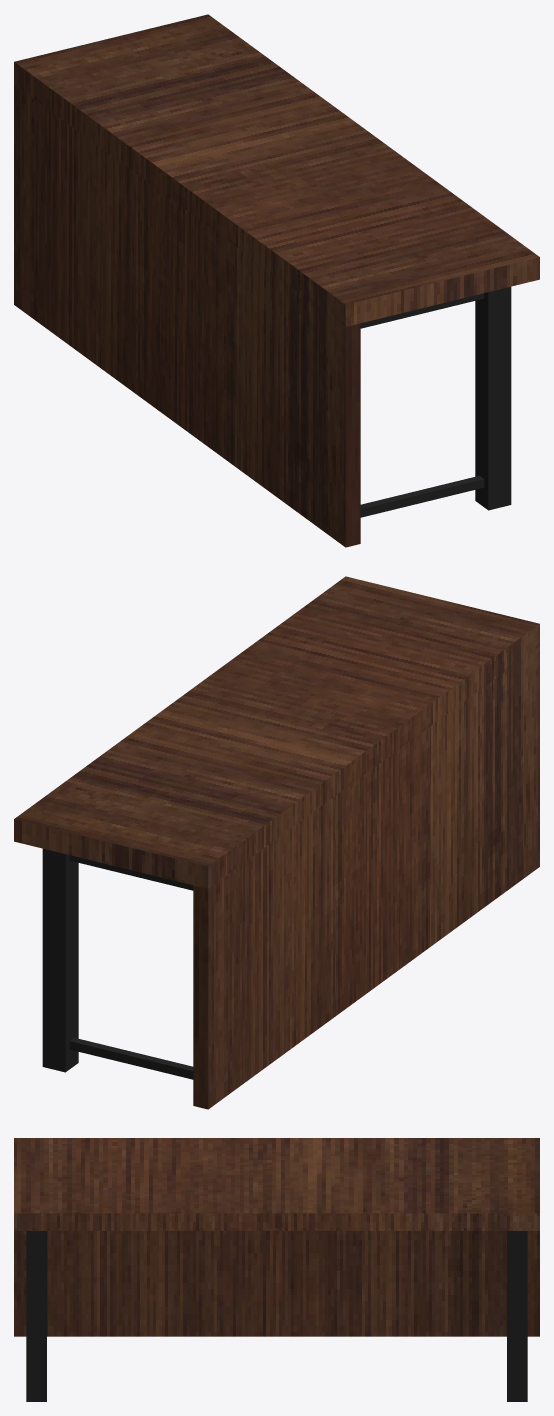
File: desk.glb
3 views of the same model, one above another, from view 1: azimuth 30°, elevation 25°; view 2: azimuth 150°, elevation 25°; view 3: azimuth 270°, elevation 25° (orthographic). The views are drawn at different scales.
Parts seen in each view (by area): view 1: desk_col; view 2: desk_col; view 3: desk_col.
Part boxes in pixels (x1,y1,x2,y2): desk_col: (14, 14, 539, 547); desk_col: (14, 576, 539, 1109); desk_col: (14, 1138, 539, 1401).
Size of the model in its own units: 2.17 by 2.64 by 6.41.
Materials: 2 (1 with a texture image).
